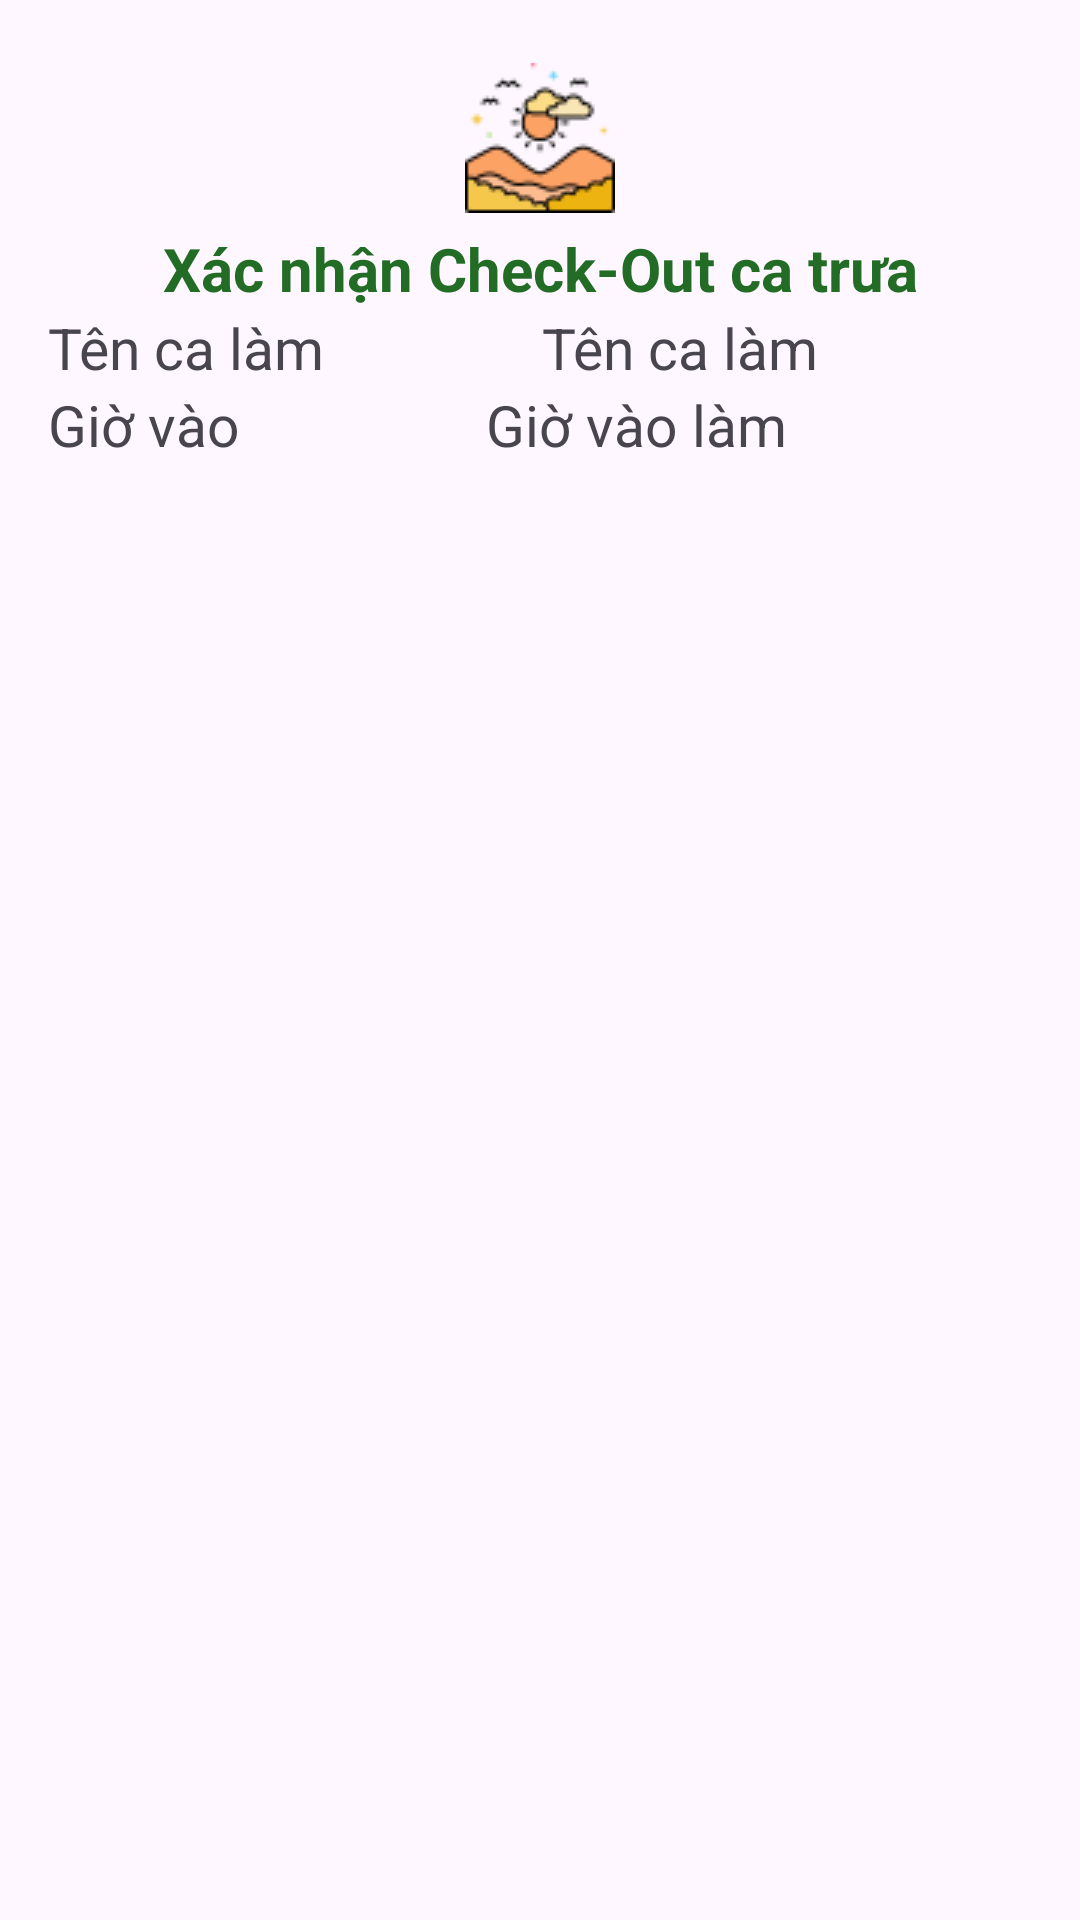

Icon click points for this 1080w x 1920h phone screenshot, format [x,y]:
iconafternoon: [540,138]
